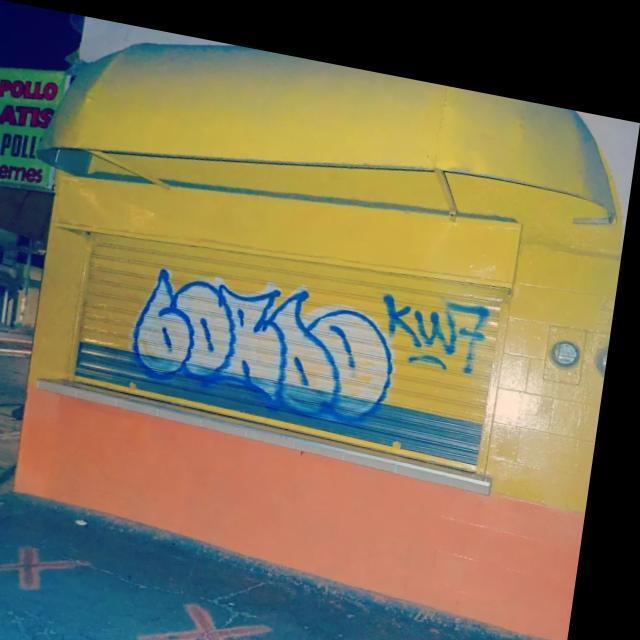-: (131, 242, 426, 424), (374, 258, 516, 372)
